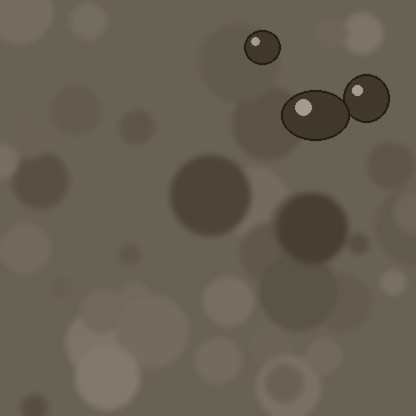gota: (281, 92, 349, 144), (343, 76, 389, 126), (244, 31, 280, 67)
